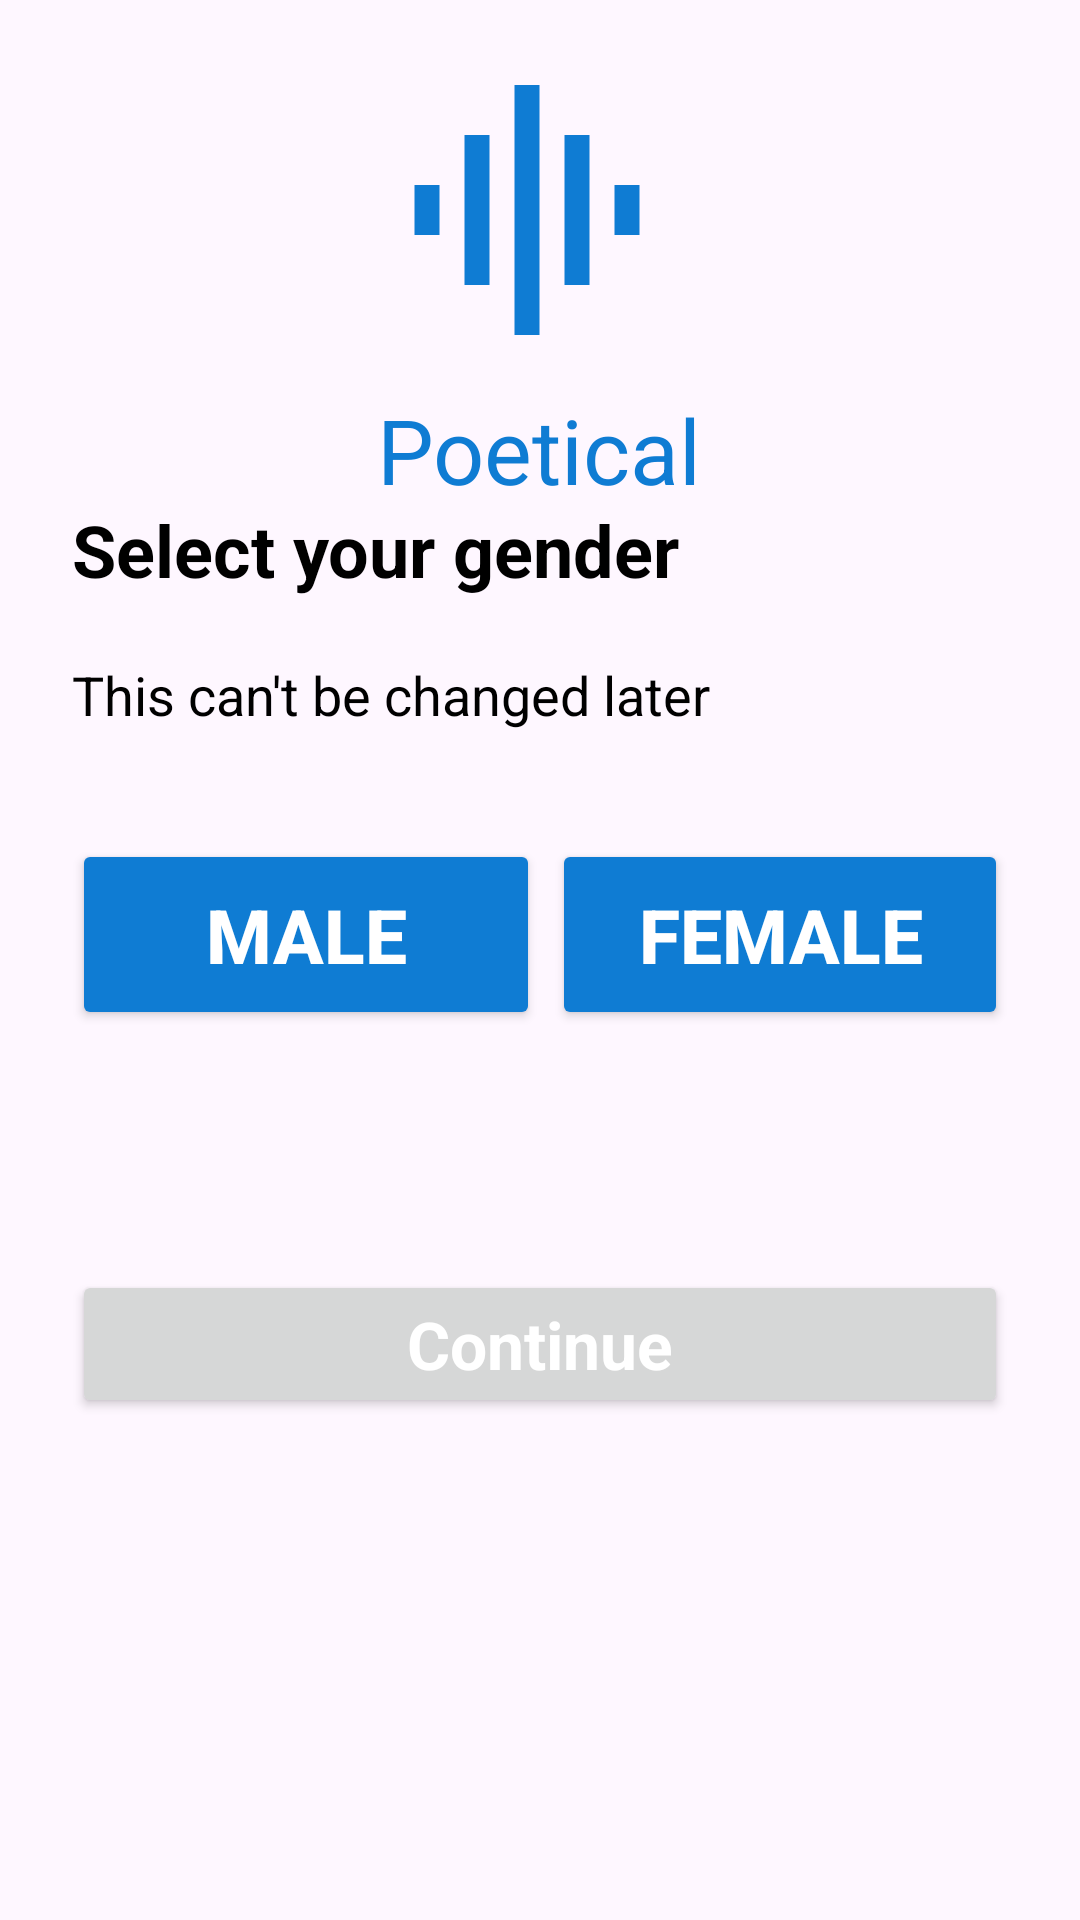

Screen size 1080 × 1920. Icon name, then its center in pixels as (x,y):
wave: (527,210)
